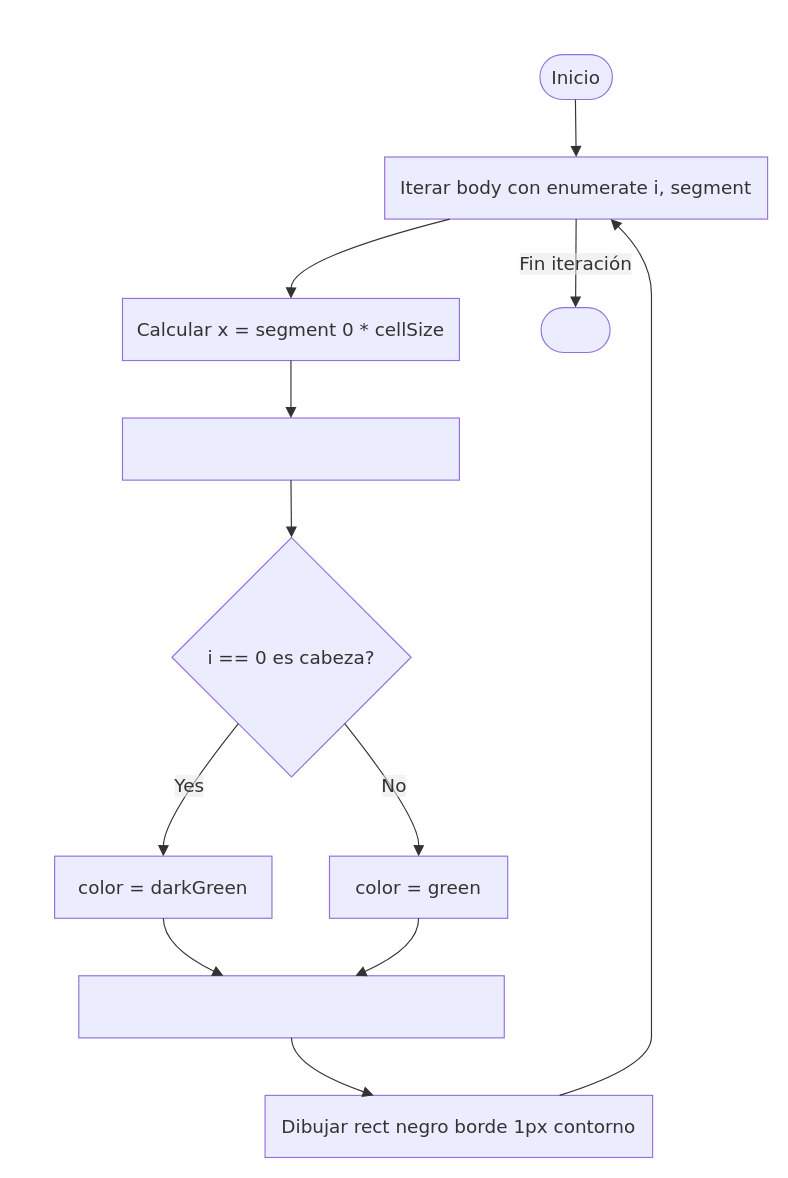
The diagram is 788 pixels wide and 1178 high, and some of its shapes have lost their labels. Each missing label, with the centre of its shape:
Calcular y = segment 1 * cellSize: [290,448]
Dibujar rect color en x, y, cellSize, cellSize: [291,1006]
Fin: [575,329]
